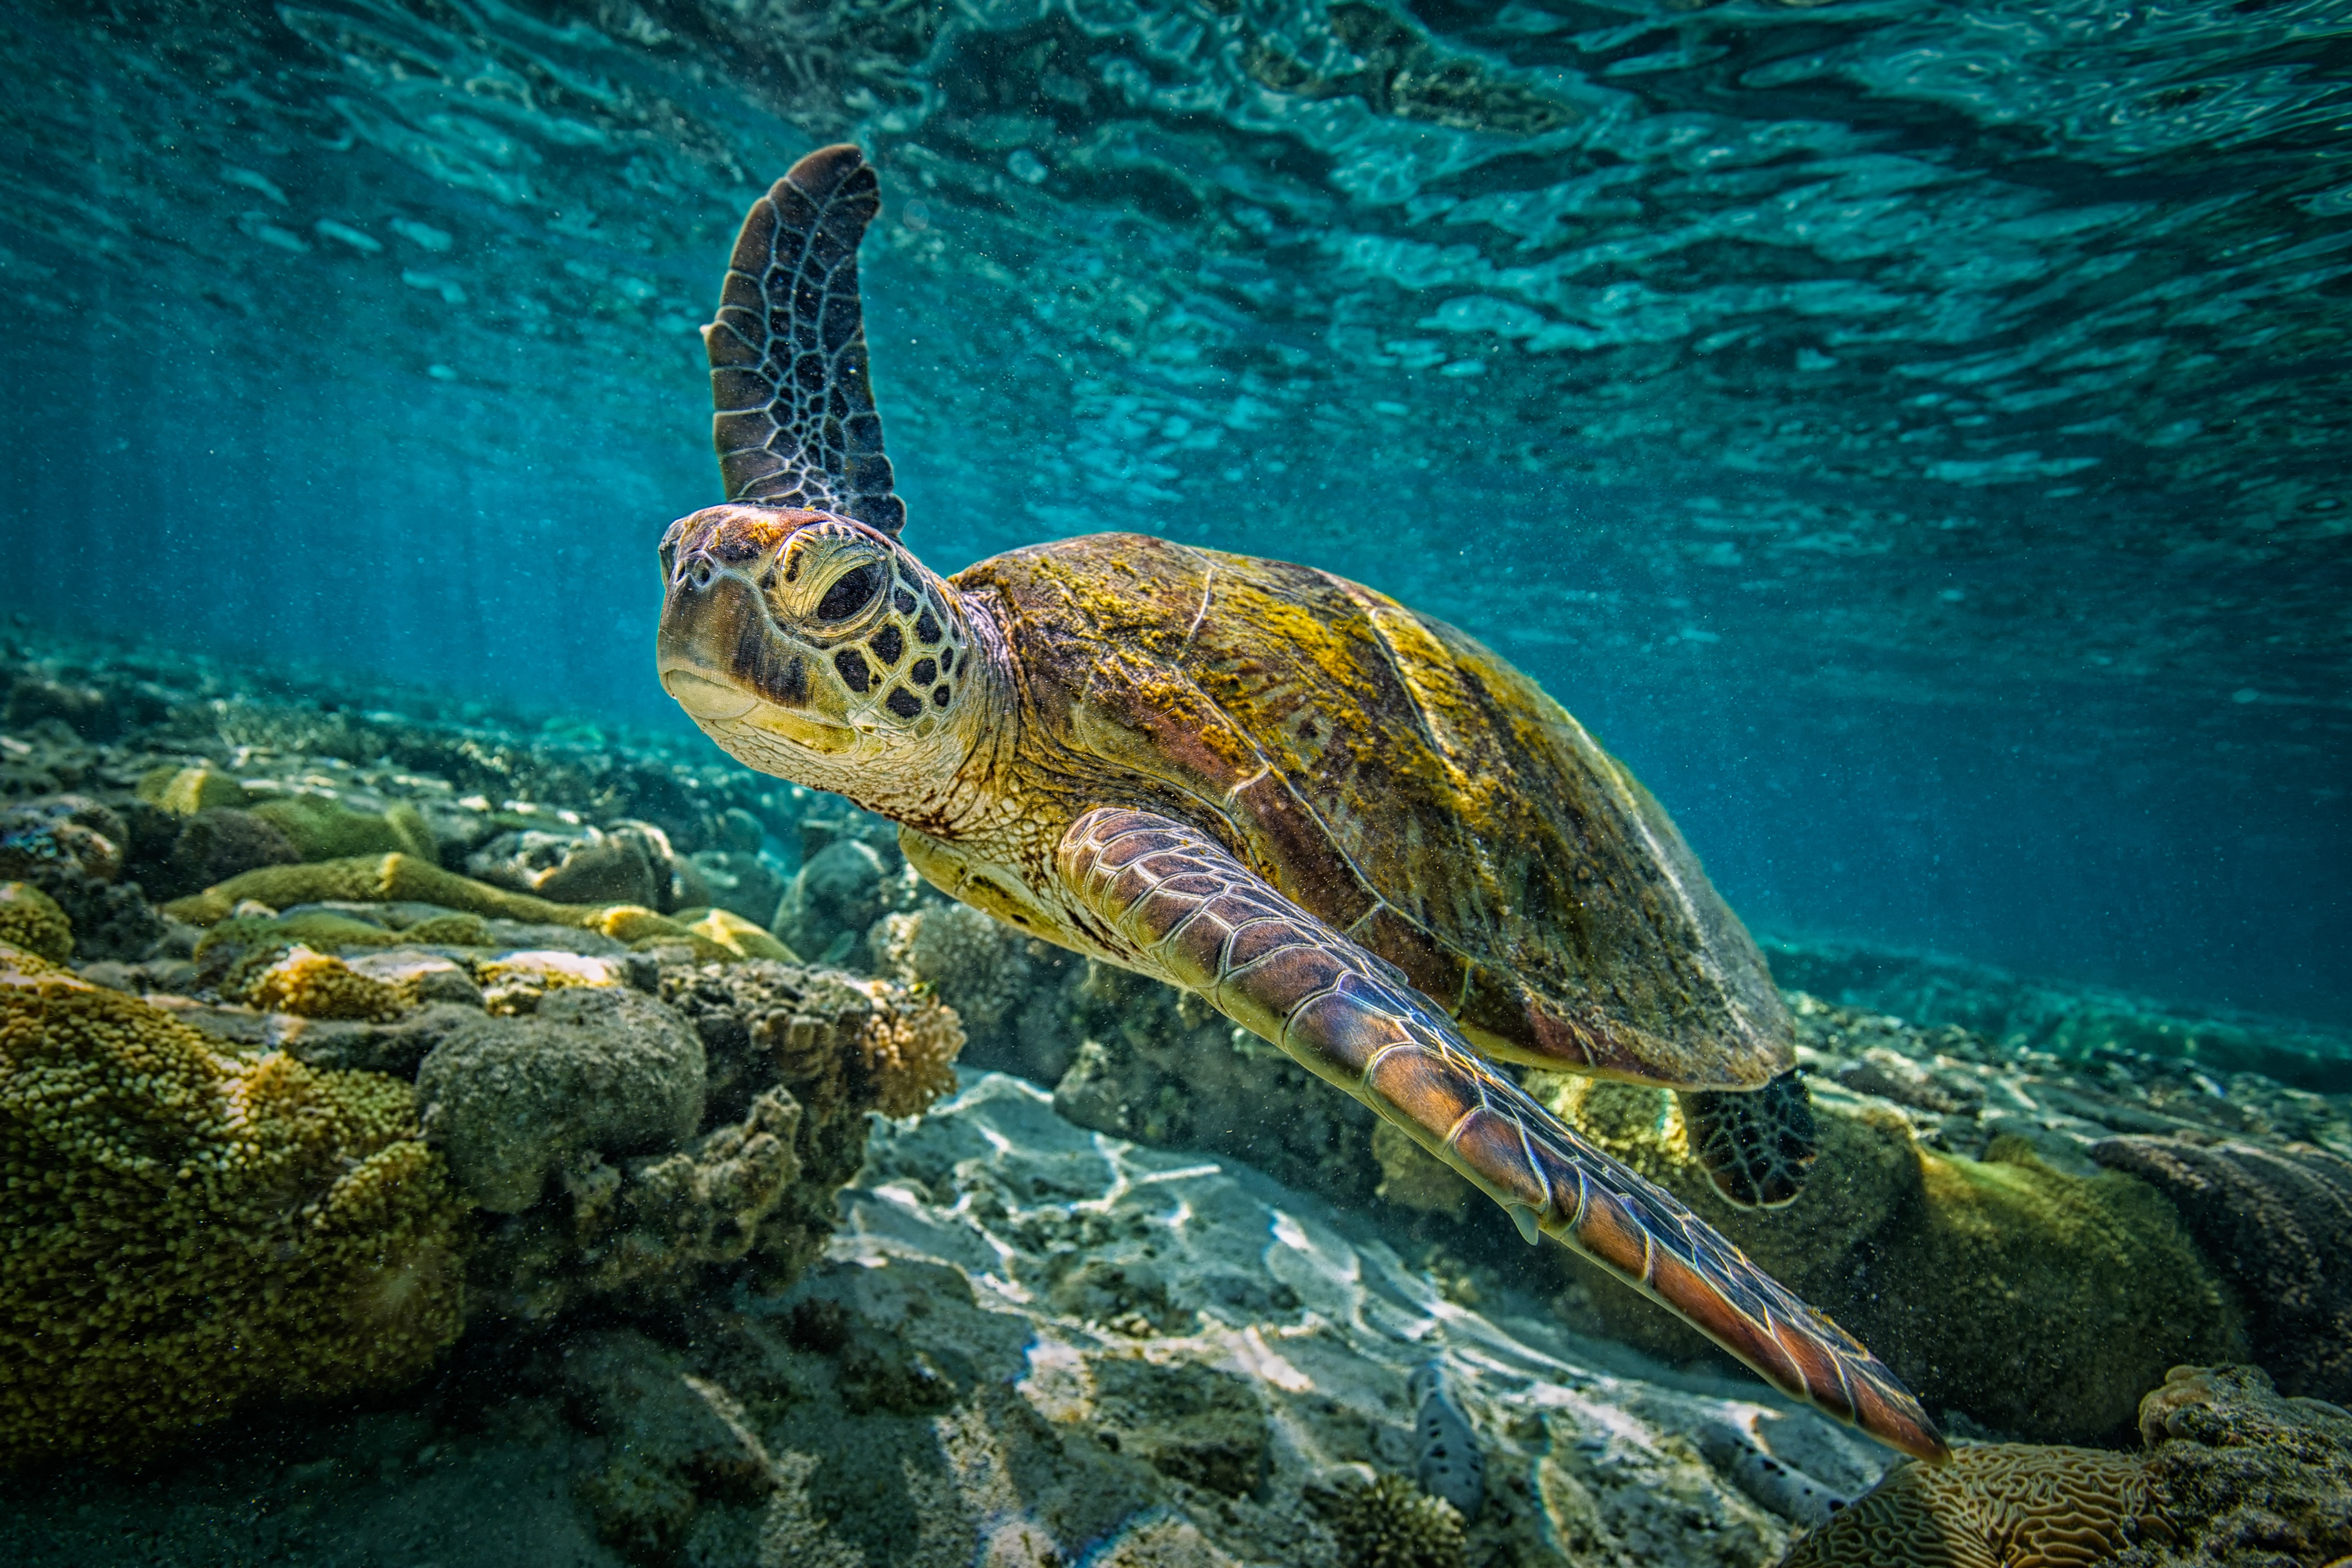eye: (805, 546, 906, 633)
mouth: (656, 653, 932, 768)
